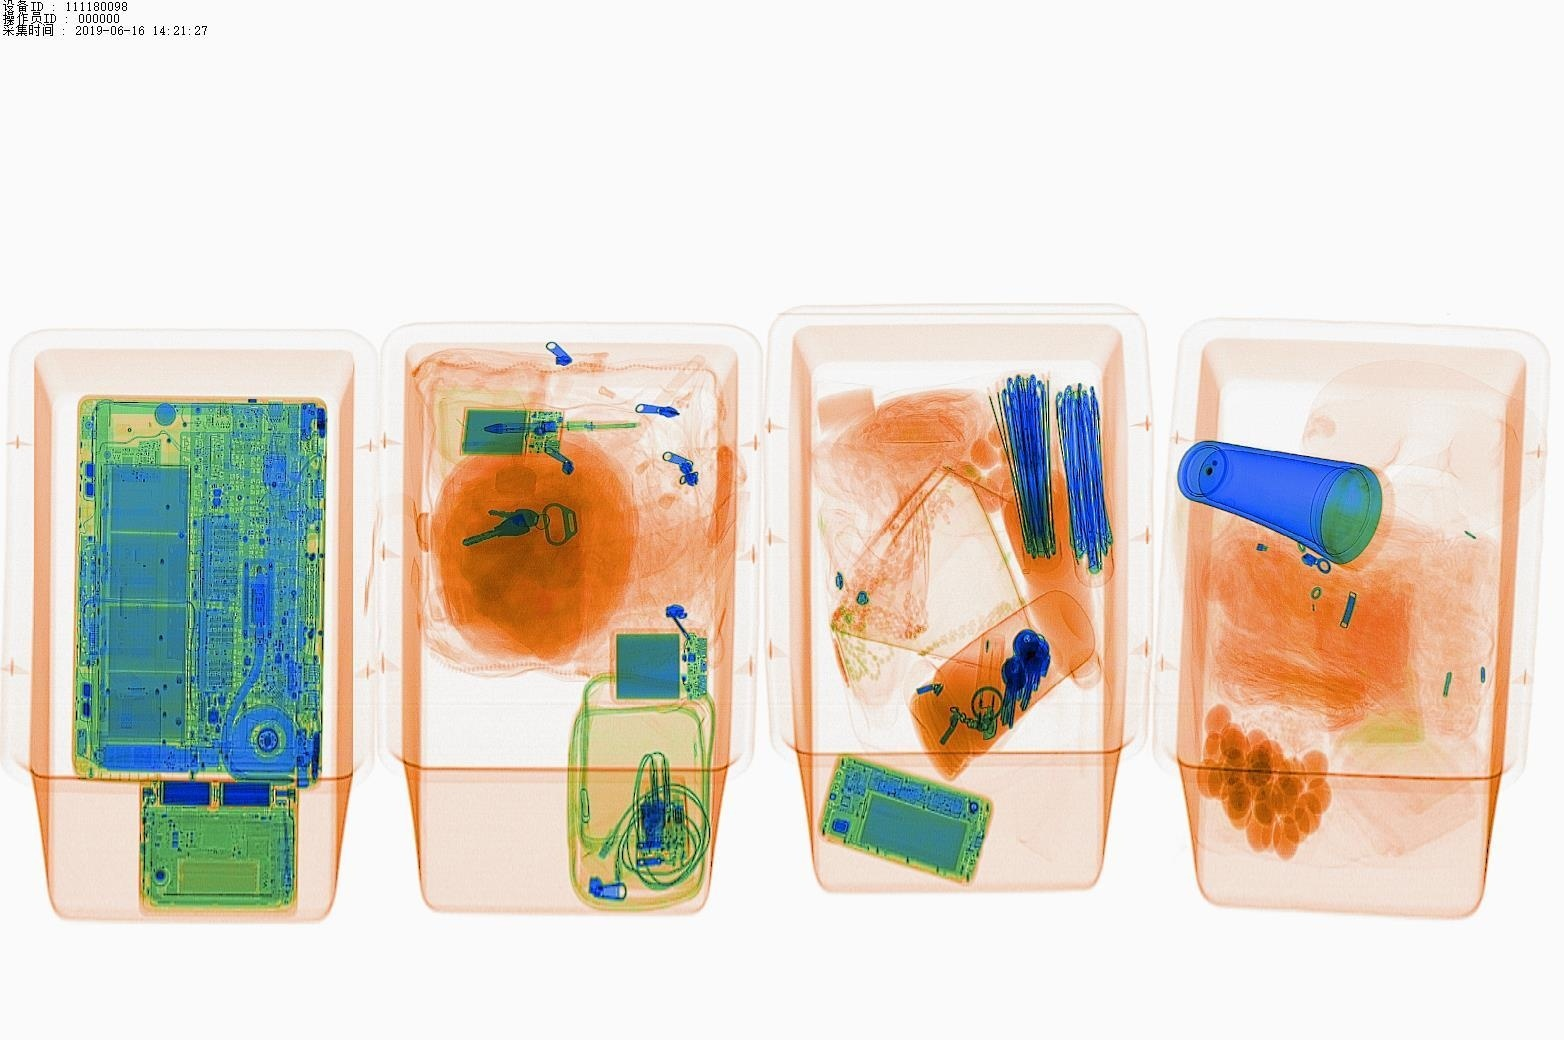NonmetallicFire: (970, 622, 1020, 749)
